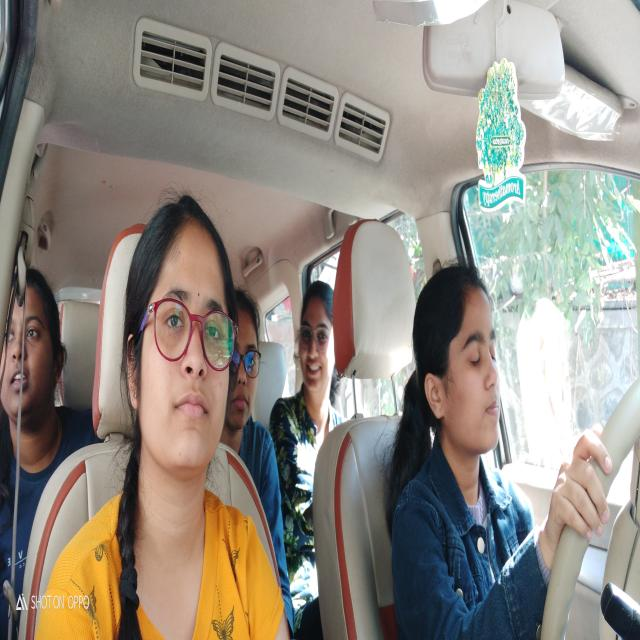drowsy: (410, 260, 504, 468)
person: (125, 191, 232, 502), (3, 257, 66, 440), (229, 280, 264, 442), (299, 278, 337, 418)
